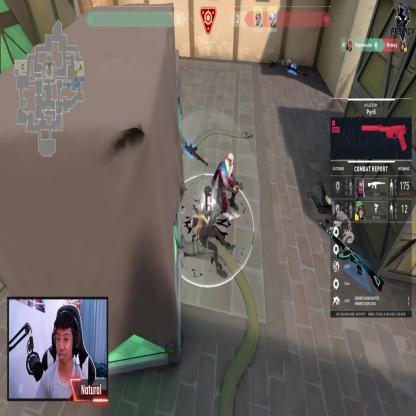enemy: (214, 152, 243, 216)
enemy_head: (227, 152, 234, 167)
